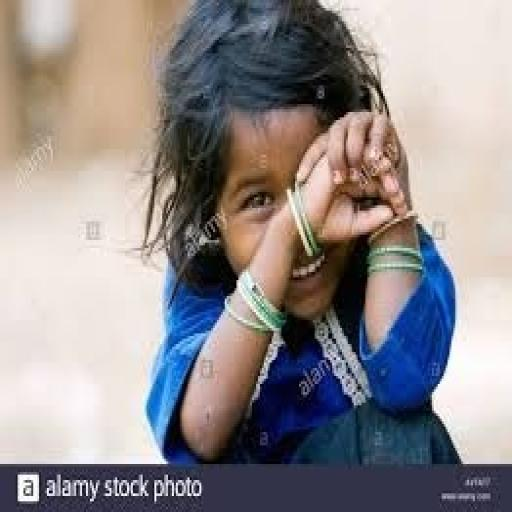laughing: (127, 0, 465, 461)
